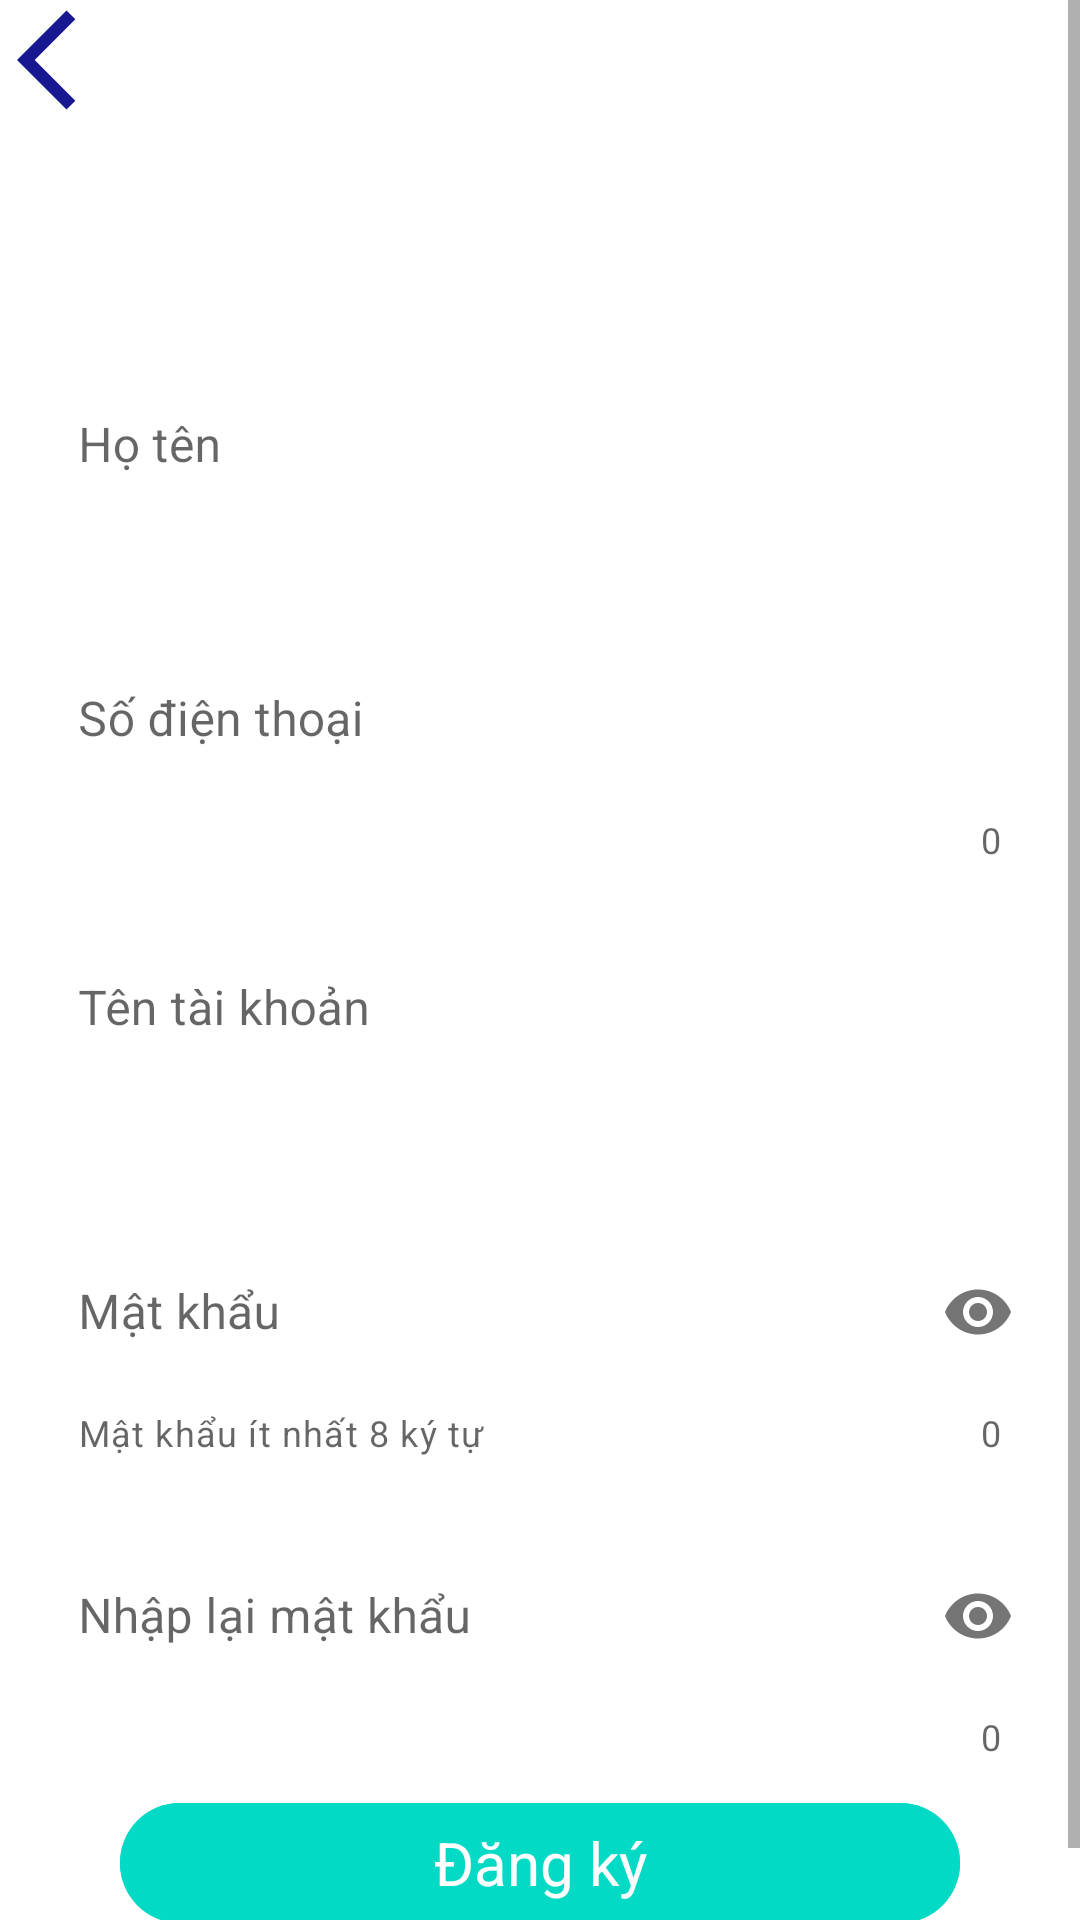

Where to tap for icons on this 1080 x 1920 app screen, as point (x, y):
arrow back: point (46, 60)
